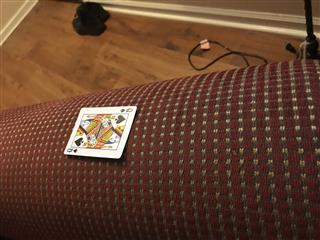QueenOfSpades: (62, 104, 138, 159)
